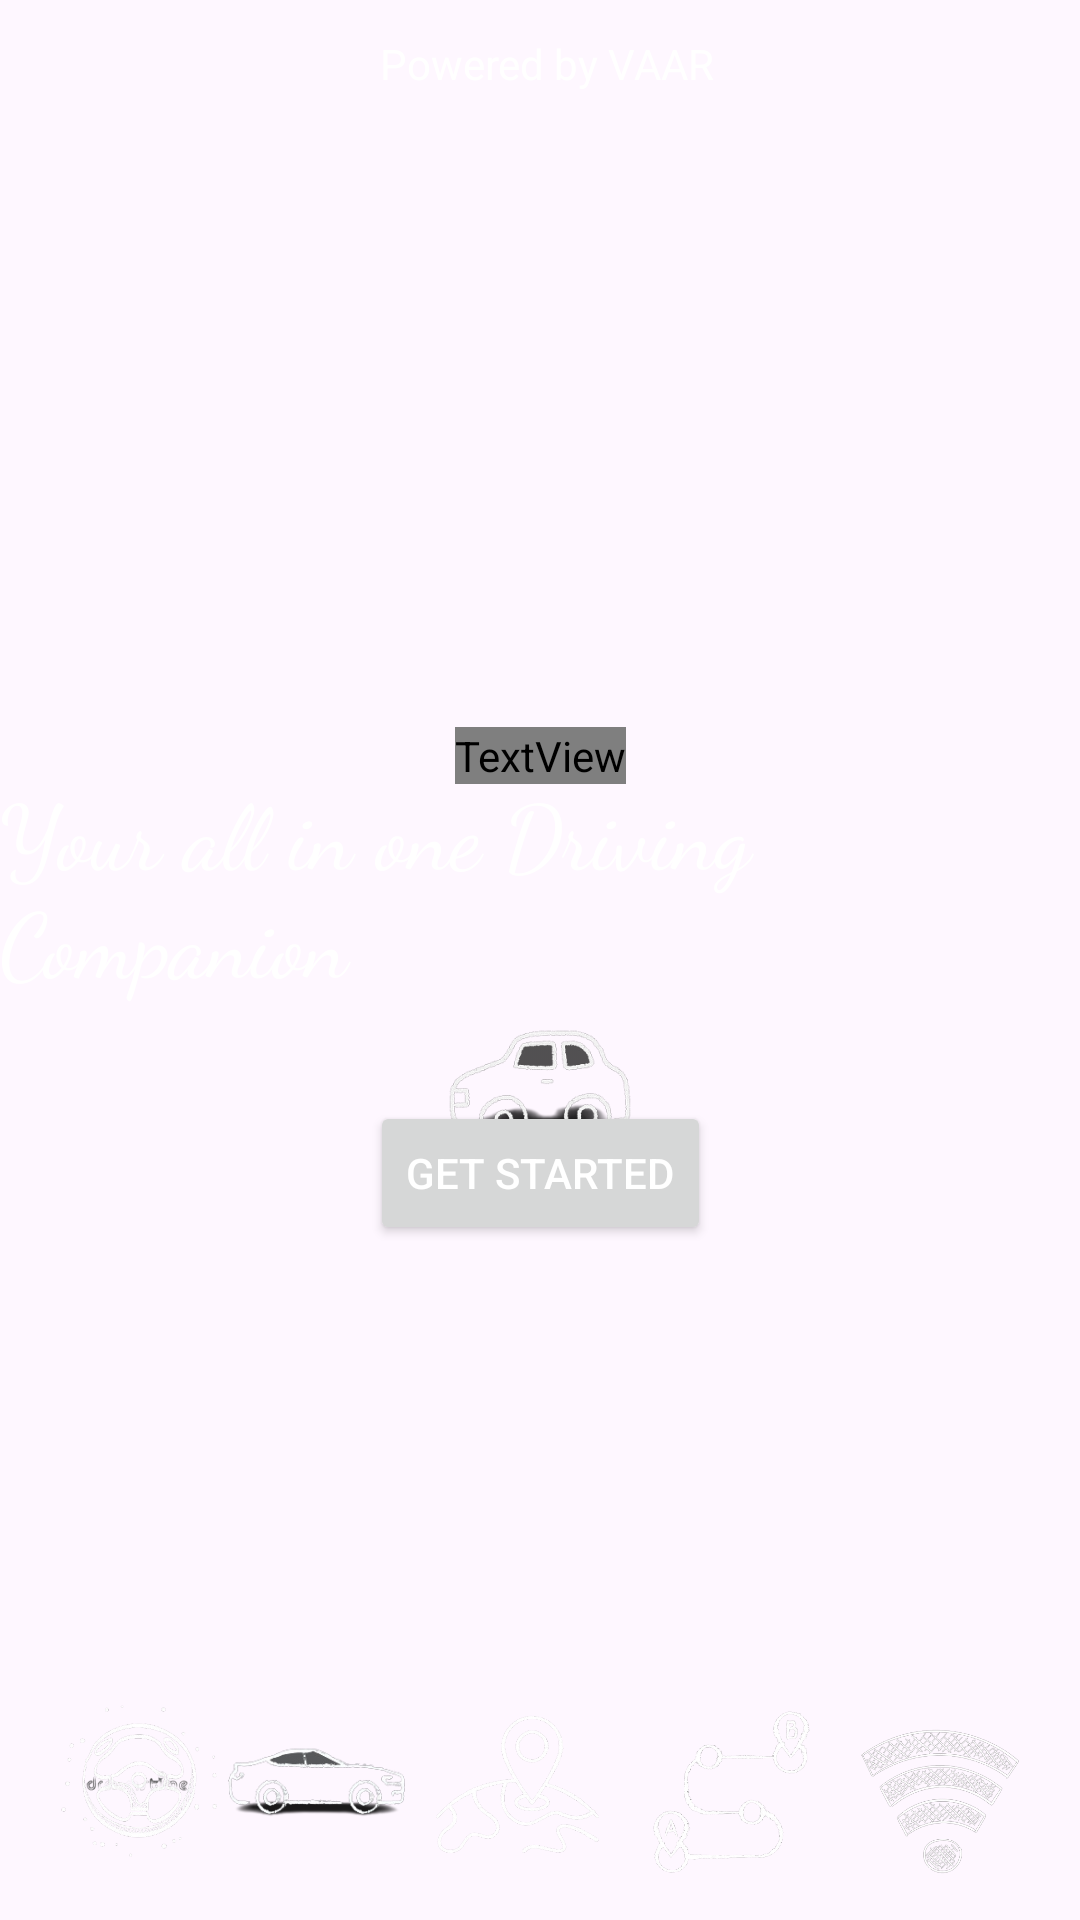

Icon click points for this 1080x1920 phone screenshot, format point (x, y):
connection: point (913, 1799)
